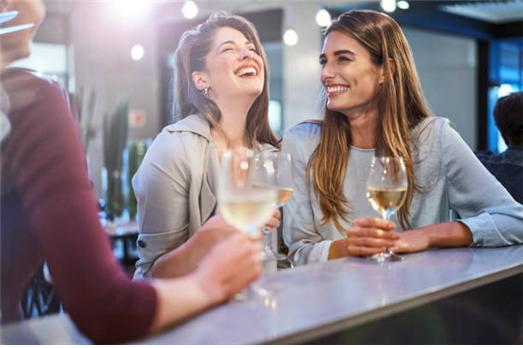alcohol: (218, 151, 273, 301), (250, 151, 295, 262), (365, 155, 408, 264)
